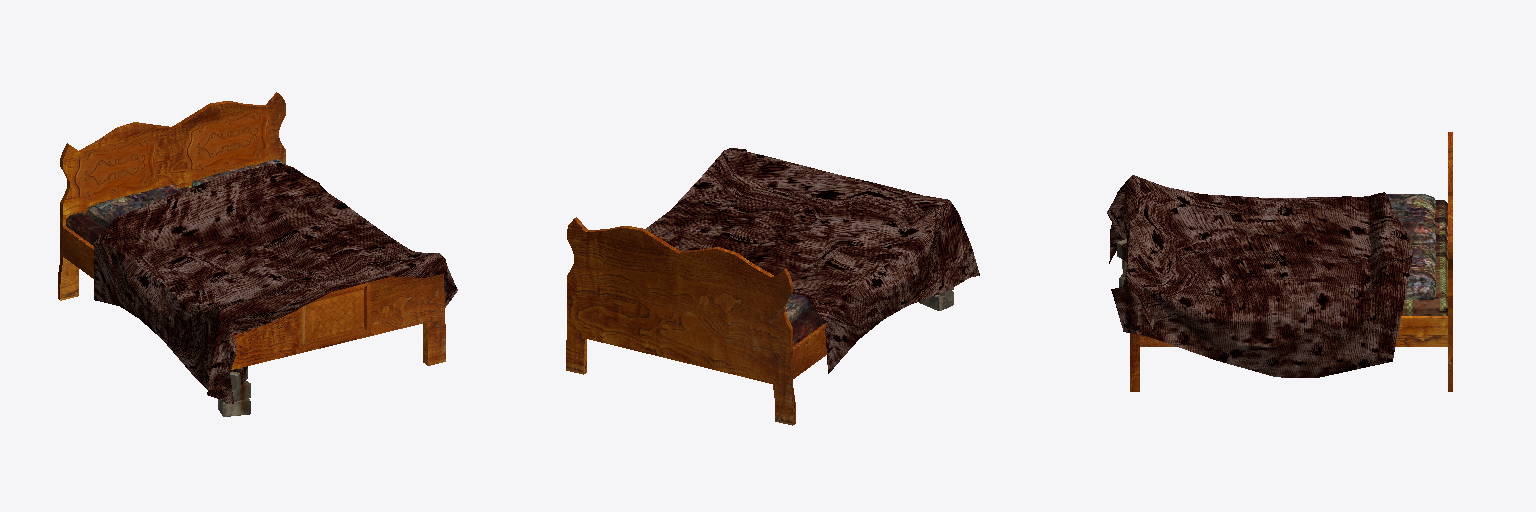
The picture shows the model from 3 angles: view 1: azimuth 30°, elevation 25°; view 2: azimuth 150°, elevation 25°; view 3: azimuth 270°, elevation 25°; orthographic projection.
Parts seen in each view (by area): view 1: Bed; view 2: Bed; view 3: Bed.
Boxes of the visible parts, x1=… form: Bed: x1=58, y1=92, x2=457, y2=416; Bed: x1=566, y1=148, x2=979, y2=425; Bed: x1=1107, y1=132, x2=1452, y2=391.
Bounding box in the file's own units: 187 × 108 × 215.
Materials: 1 (1 with a texture image).